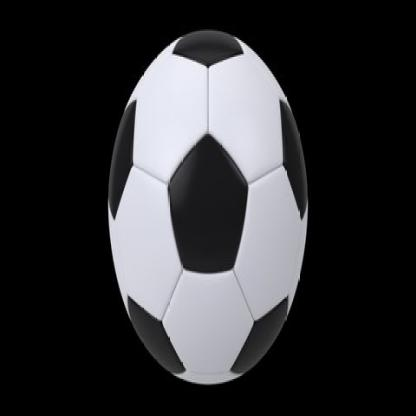ball: (95, 12, 320, 416)
